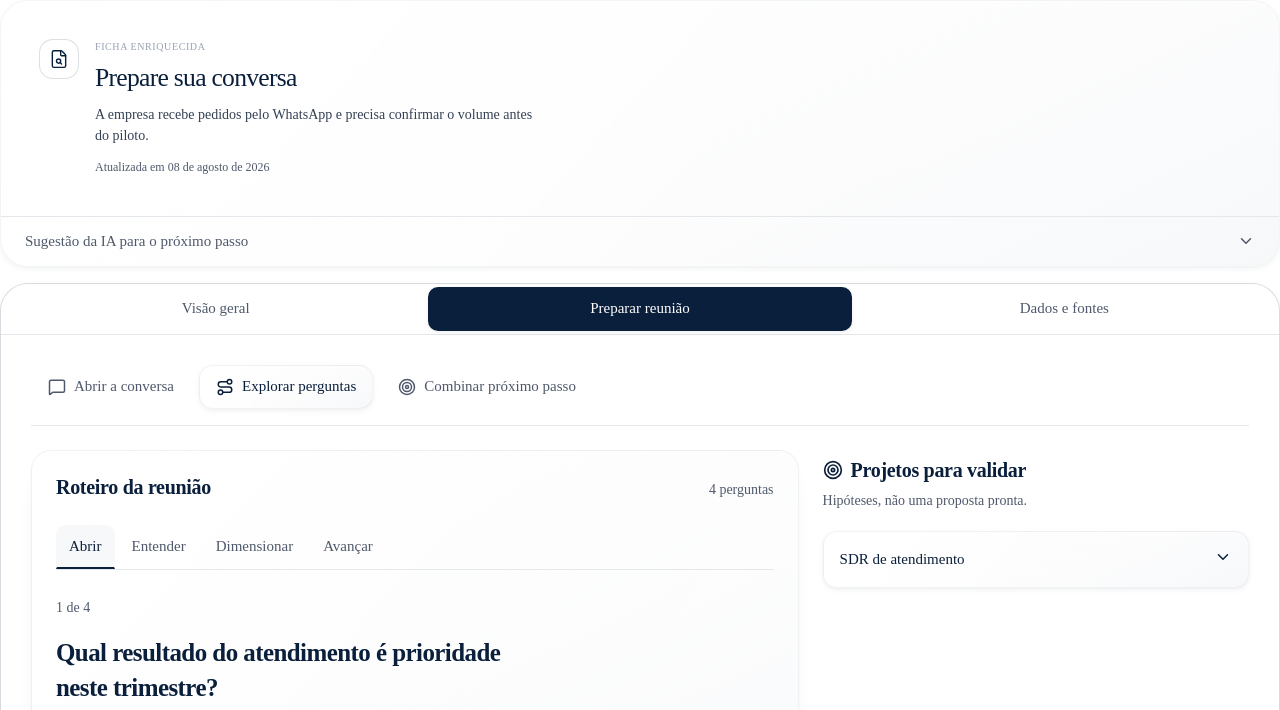
Test: PesquisaComercial › mantém a sugestão acessível sem competir com uma ação já definida
This screenshot has width=1280, height=710.
Expected: the text "Medir o volume de uma semana." is not shown
What coordinates should you click on to do the following:
click the heading "Sugestão da IA para o próximo passo"
I would click on:
 (137, 241)
Its box is left=25, top=232, right=1255, bottom=250.
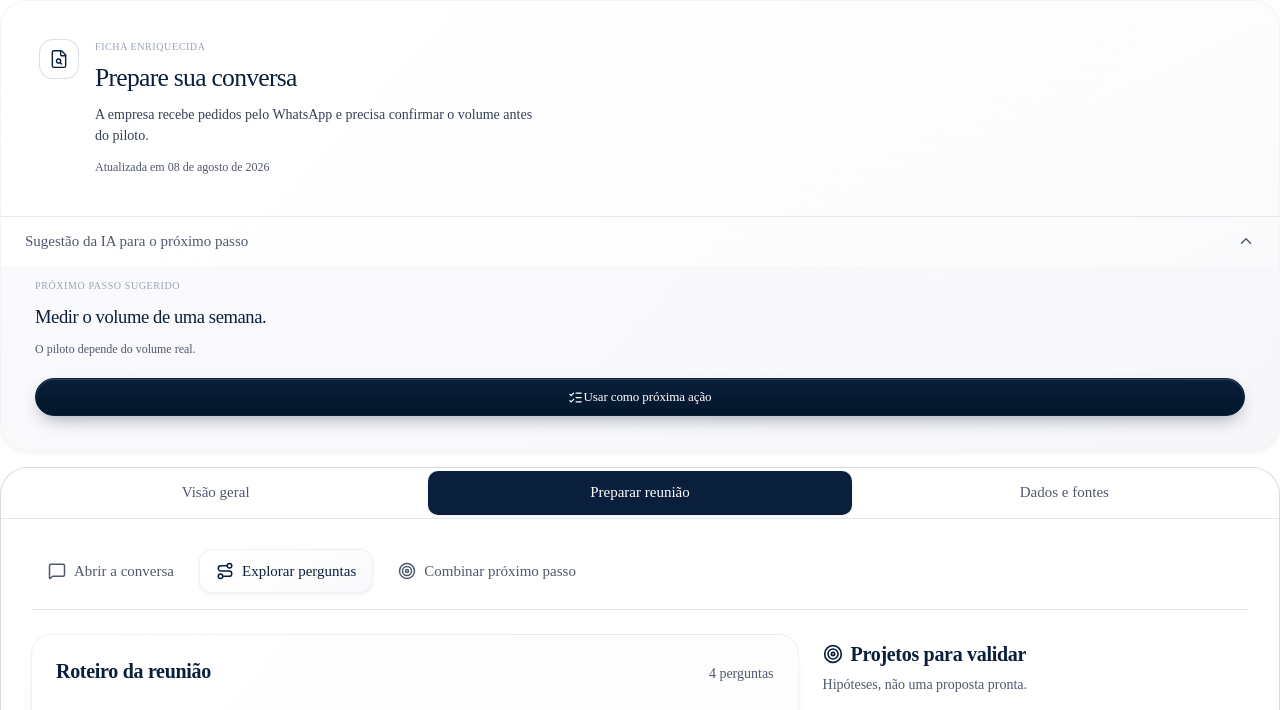
Result: the heading "Medir o volume de uma semana." is shown at left=35, top=306, right=266, bottom=327
Result: the button "Usar como próxima ação" is shown at left=35, top=378, right=1245, bottom=416
